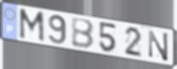2: (124, 26, 143, 59)
5: (99, 20, 118, 55)
9: (48, 14, 68, 45)
B: (70, 17, 96, 51)
M: (18, 8, 46, 44)
N: (147, 29, 170, 63)
